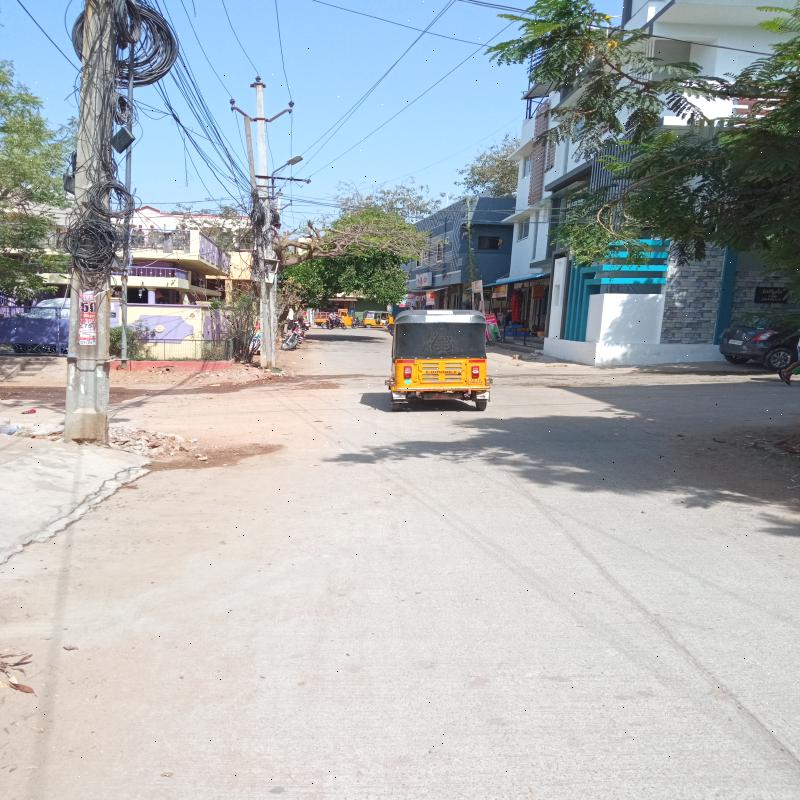auto: (387, 310, 500, 408)
